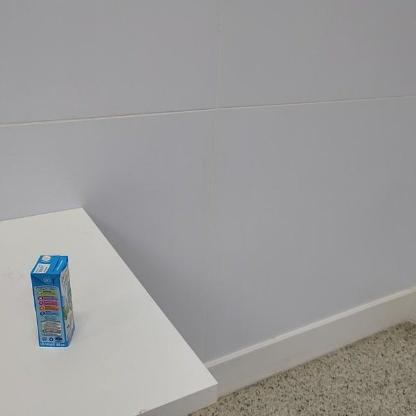Others: (25, 246, 83, 356)
